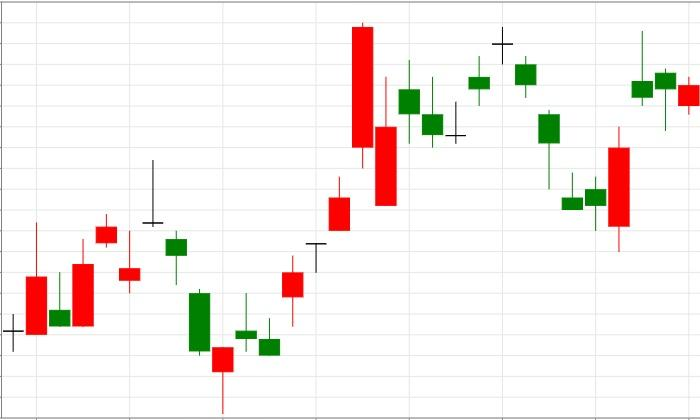bullish_engulfing_rise: (493, 27, 629, 252)
hammer_rise: (142, 161, 233, 415)
